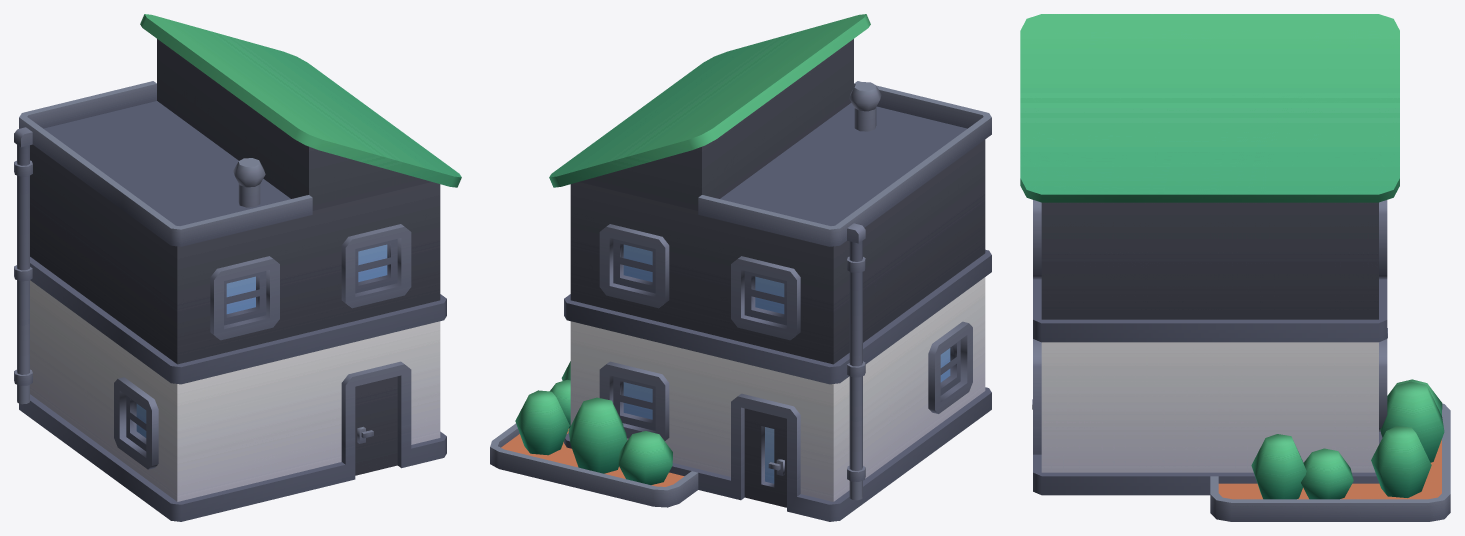
The model's file is bld-sub-l-9483a30fff87.glb.
3 renders of one model, left to right at view 1: azimuth 30°, elevation 25°; view 2: azimuth 150°, elevation 25°; view 3: azimuth 270°, elevation 25°, orthographic. The views are drawn at different scales.
Parts seen in each view (by area): view 1: building-type-l; view 2: building-type-l; view 3: building-type-l.
Boxes of the visible parts, x1,y1,x2,y2 form: building-type-l: (14, 14, 461, 521); building-type-l: (490, 14, 991, 521); building-type-l: (1020, 14, 1450, 521).
Bounding box in the file's own units: 8.27 × 8.39 × 8.16.
1 material, 1 textured.
